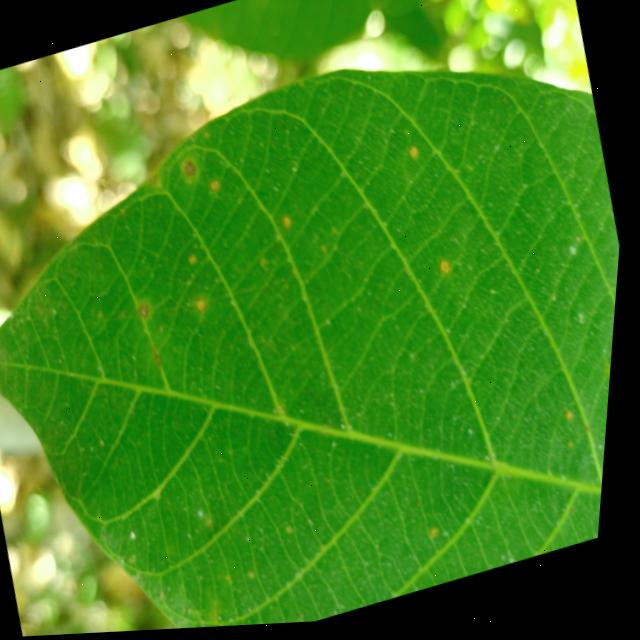Colletotrichum: (184, 159, 201, 178), (140, 303, 156, 320)
